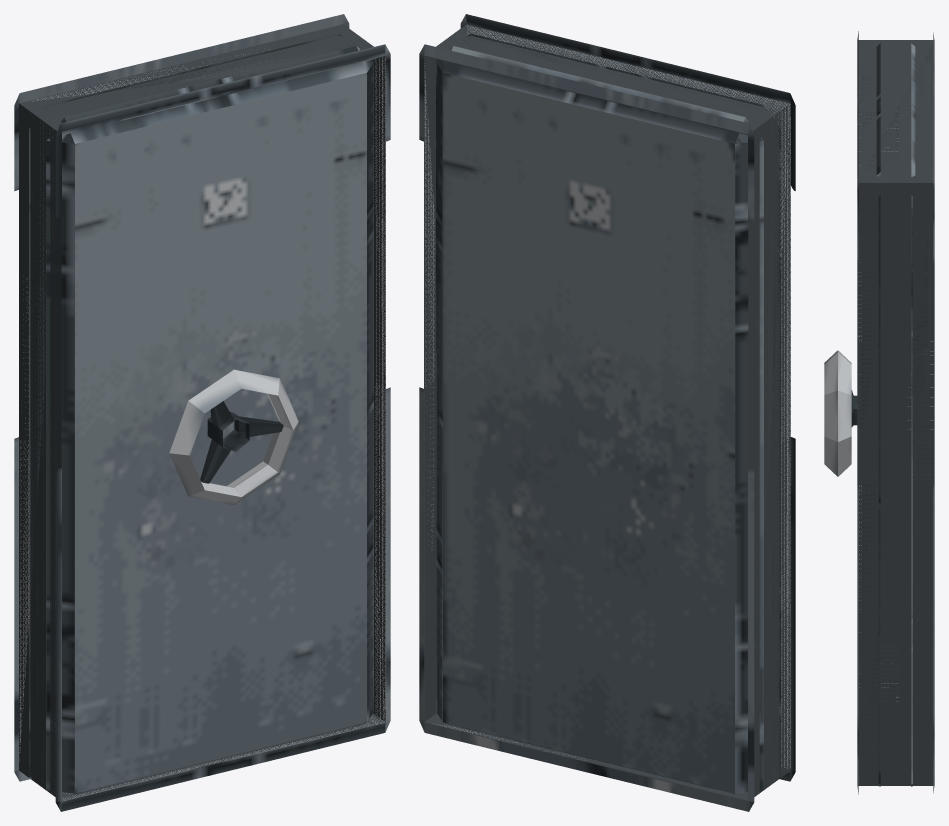
Rendered from ExteriorDoor.fbx.
3 views of the same model, side by side, from view 1: azimuth 30°, elevation 25°; view 2: azimuth 150°, elevation 25°; view 3: azimuth 270°, elevation 25° (orthographic). The views are drawn at different scales.
Visible parts, largest first — view 1: ExteriorDoor, DoorRestraint, Manivel; view 2: ExteriorDoor, DoorRestraint; view 3: DoorRestraint, ExteriorDoor, Manivel.
Boxes of the visible parts, <box> form: ExteriorDoor: <box>29,33,373,797</box>; DoorRestraint: <box>14,14,390,811</box>; Manivel: <box>169,369,298,504</box>; ExteriorDoor: <box>436,33,780,794</box>; DoorRestraint: <box>419,14,795,811</box>; DoorRestraint: <box>857,31,934,794</box>; ExteriorDoor: <box>862,43,929,786</box>; Manivel: <box>824,350,861,476</box>.
Bounding box in the file's own units: 1.11 × 2.07 × 0.3207.
